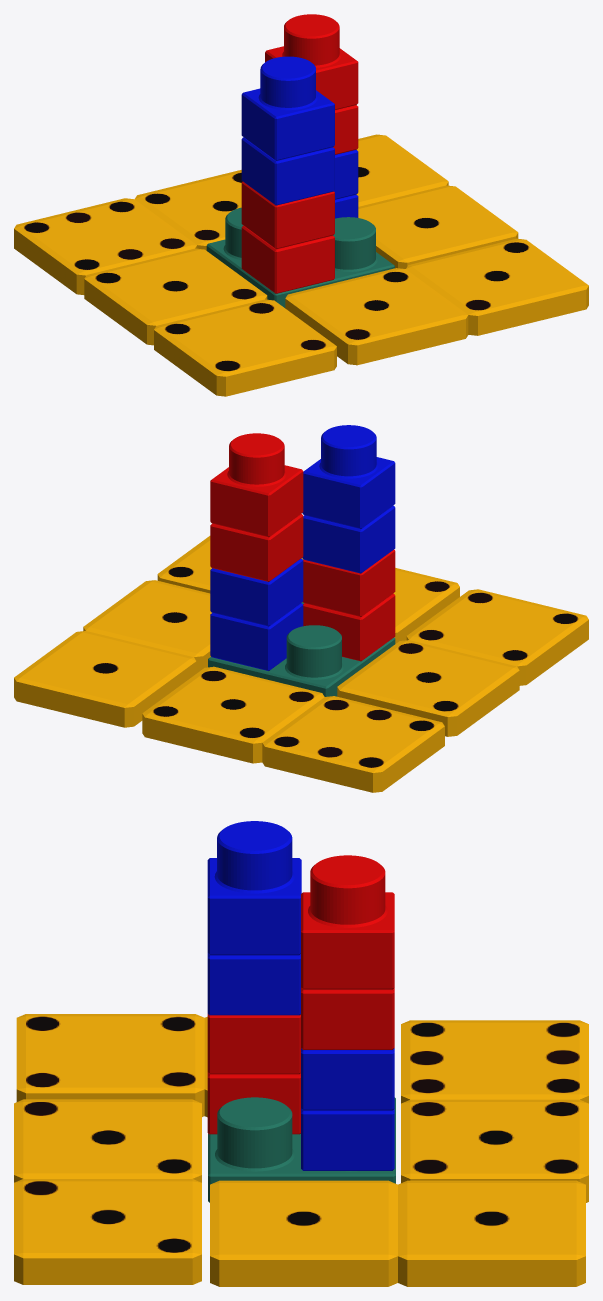
3 renders of one model, top to bottom at view 1: azimuth 30°, elevation 25°; view 2: azimuth 150°, elevation 25°; view 3: azimuth 270°, elevation 25°, orthographic. The views are drawn at different scales.
Visible parts, largest first — view 1: Dom.015, Dom.202_low_0.003, Dom.303_low_2.001, Dom.010_low_2.001, Cube.025, Cube.026, Cube.029, Cube.027, Cube.028; view 2: Dom.303_low_2.001, Dom.202_low_0.003, Dom.010_low_2.001, Cube.029, Cube.025, Cube.028, Cube.026, Cube.027, Dom.015; view 3: Dom.010_low_2.001, Dom.015, Dom.303_low_2.001, Cube.025, Cube.029, Dom.202_low_0.003, Cube.028, Cube.026, Cube.027.
Boxes of the visible parts, box(x1,y1,x2,y2) form: Dom.015: box(285, 238, 588, 365); Dom.202_low_0.003: box(84, 248, 336, 396); Dom.303_low_2.001: box(14, 170, 242, 294); Dom.010_low_2.001: box(356, 134, 518, 268); Cube.025: box(241, 56, 334, 205); Cube.026: box(241, 181, 334, 293); Cube.029: box(265, 14, 358, 154); Cube.027: box(206, 207, 394, 307); Cube.028: box(334, 150, 358, 218); Dom.303_low_2.001: box(142, 666, 444, 792); Dom.202_low_0.003: box(337, 589, 588, 736); Dom.010_low_2.001: box(14, 580, 211, 727); Cube.029: box(210, 433, 303, 581); Cube.025: box(302, 425, 395, 573); Cube.028: box(210, 558, 303, 670); Cube.026: box(303, 549, 395, 661); Cube.027: box(208, 602, 395, 696); Dom.015: box(157, 536, 459, 643); Dom.010_low_2.001: box(210, 1180, 585, 1286); Dom.015: box(14, 1099, 201, 1284); Dom.303_low_2.001: box(401, 1020, 588, 1202); Cube.025: box(207, 821, 301, 1015); Cube.029: box(301, 855, 394, 1049); Dom.202_low_0.003: box(16, 1014, 207, 1117); Cube.028: box(301, 1048, 394, 1170); Cube.026: box(207, 1014, 300, 1134); Cube.027: box(208, 1097, 395, 1202).
Size of the model in its own units: 6.2 by 3.73 by 6.12.
Materials: 11 (6 with a texture image).
